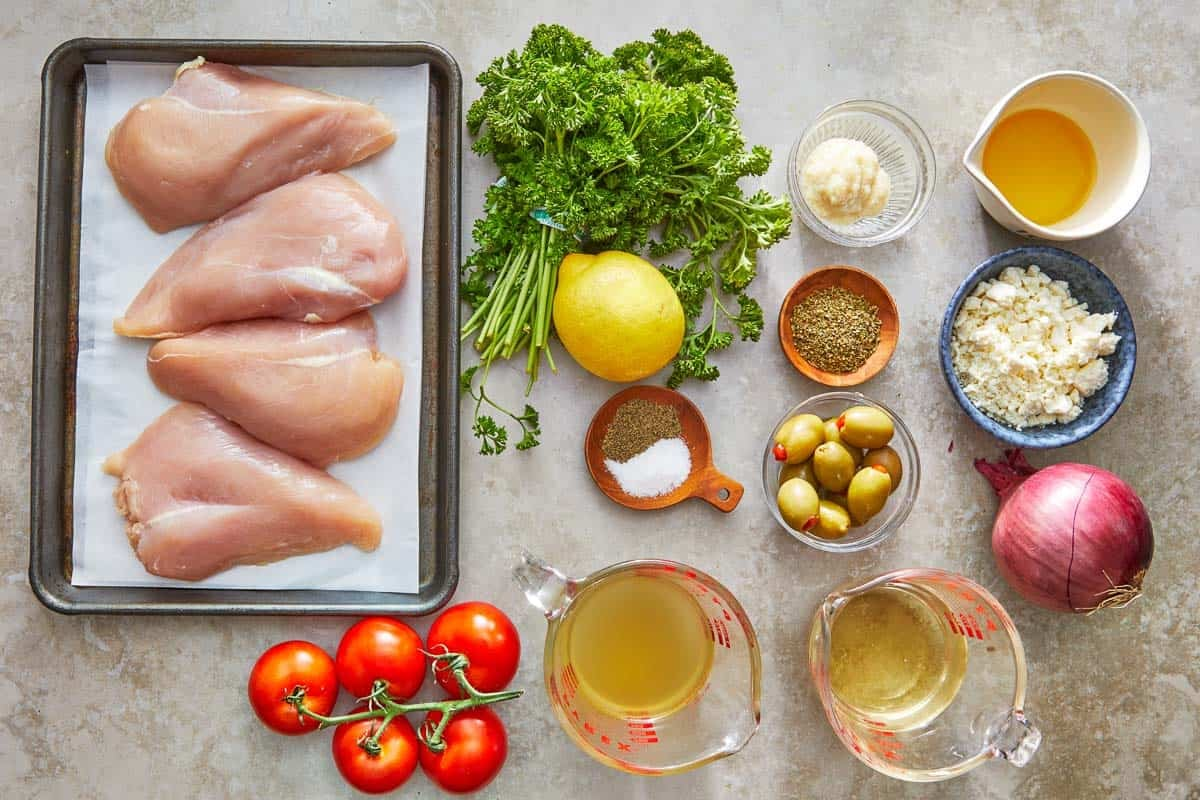Chicken: (95, 390, 396, 592), (105, 169, 406, 343), (103, 61, 405, 230), (132, 317, 409, 464)
Cilantro: (474, 19, 753, 329)
Onion: (978, 453, 1152, 631)
Tomato: (416, 599, 521, 706), (411, 700, 515, 796), (328, 609, 427, 708), (243, 637, 340, 738), (324, 701, 419, 793)
